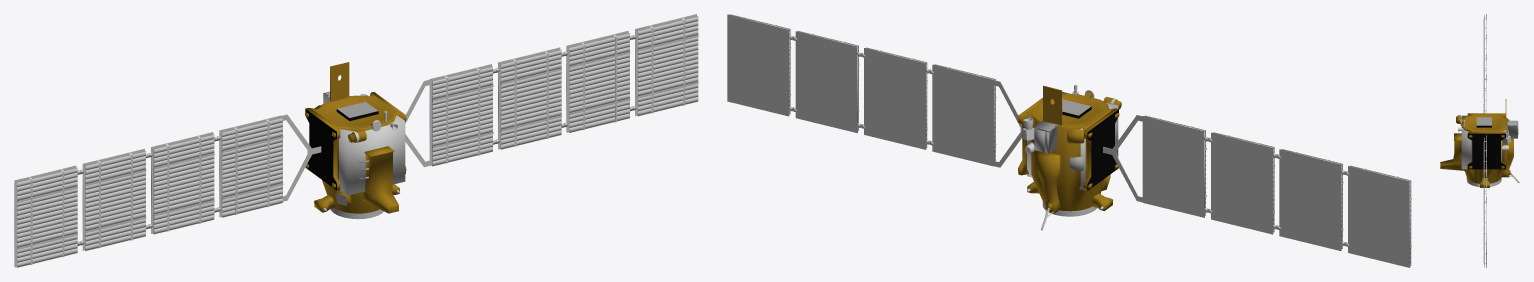
Rendered from Deep.obj.
3 renders of one model, left to right at view 1: azimuth 30°, elevation 25°; view 2: azimuth 150°, elevation 25°; view 3: azimuth 270°, elevation 25°, orthographic. The views are drawn at different scales.
Parts seen in each view (by area): view 1: shiny_panel_Deep_Space_1.014, tex_01_Deep_Space_1.010, foil_gold_Deep_Space_1.001, _root_Cube.004, black_krinkle_Deep_Space_1.002, foil_silver_Deep_Space_1.029; view 2: tex_01_Deep_Space_1.010, foil_gold_Deep_Space_1.001, black_krinkle_Deep_Space_1.002, foil_silver_Deep_Space_1.029, shiny_panel_Deep_Space_1.014, _root_Cube.004; view 3: foil_gold_Deep_Space_1.001, black_krinkle_Deep_Space_1.002, tex_01_Deep_Space_1.010, _root_Cube.004, foil_silver_Deep_Space_1.029, shiny_panel_Deep_Space_1.014.
Boxes of the visible parts, left/top/right/bottom form: shiny_panel_Deep_Space_1.014: left=17, top=17, right=698, bottom=267; tex_01_Deep_Space_1.010: left=14, top=14, right=698, bottom=267; foil_gold_Deep_Space_1.001: left=305, top=62, right=406, bottom=213; _root_Cube.004: left=339, top=115, right=405, bottom=195; black_krinkle_Deep_Space_1.002: left=305, top=109, right=378, bottom=190; foil_silver_Deep_Space_1.029: left=323, top=91, right=377, bottom=178; tex_01_Deep_Space_1.010: left=727, top=14, right=1411, bottom=267; foil_gold_Deep_Space_1.001: left=1018, top=86, right=1121, bottom=213; black_krinkle_Deep_Space_1.002: left=1062, top=106, right=1118, bottom=190; foil_silver_Deep_Space_1.029: left=1033, top=99, right=1090, bottom=170; shiny_panel_Deep_Space_1.014: left=730, top=14, right=1410, bottom=265; _root_Cube.004: left=1027, top=92, right=1118, bottom=189; foil_gold_Deep_Space_1.001: left=1440, top=99, right=1513, bottom=187; black_krinkle_Deep_Space_1.002: left=1467, top=125, right=1505, bottom=169; tex_01_Deep_Space_1.010: left=1456, top=14, right=1519, bottom=267; _root_Cube.004: left=1461, top=115, right=1501, bottom=169; foil_silver_Deep_Space_1.029: left=1476, top=117, right=1518, bottom=138; shiny_panel_Deep_Space_1.014: left=1484, top=15, right=1484, bottom=266.
Bounding box in the file's own units: 11.8 × 2.22 × 1.96.
